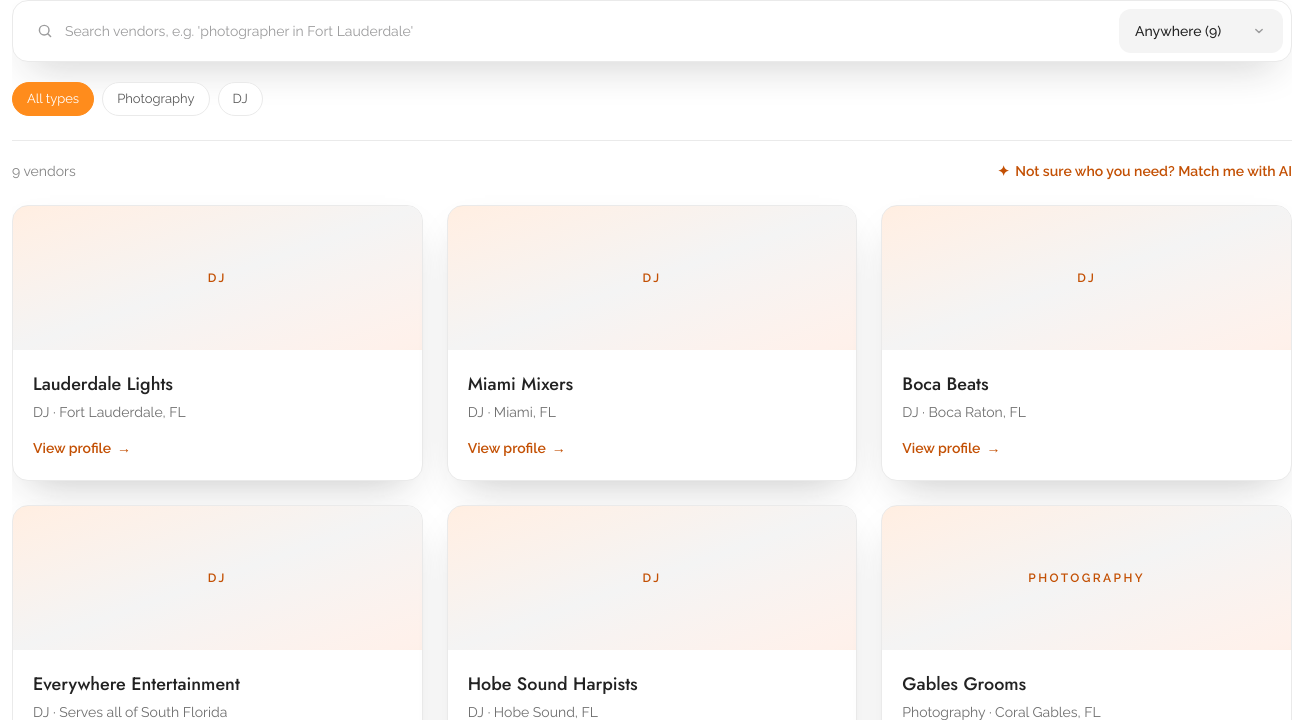
Test case: metro dropdown › clears back to the full list via Anywhere
Select "Orlando (3)" in the dropdown named "Metro" at [1201, 31], box [1119,9,1283,53]
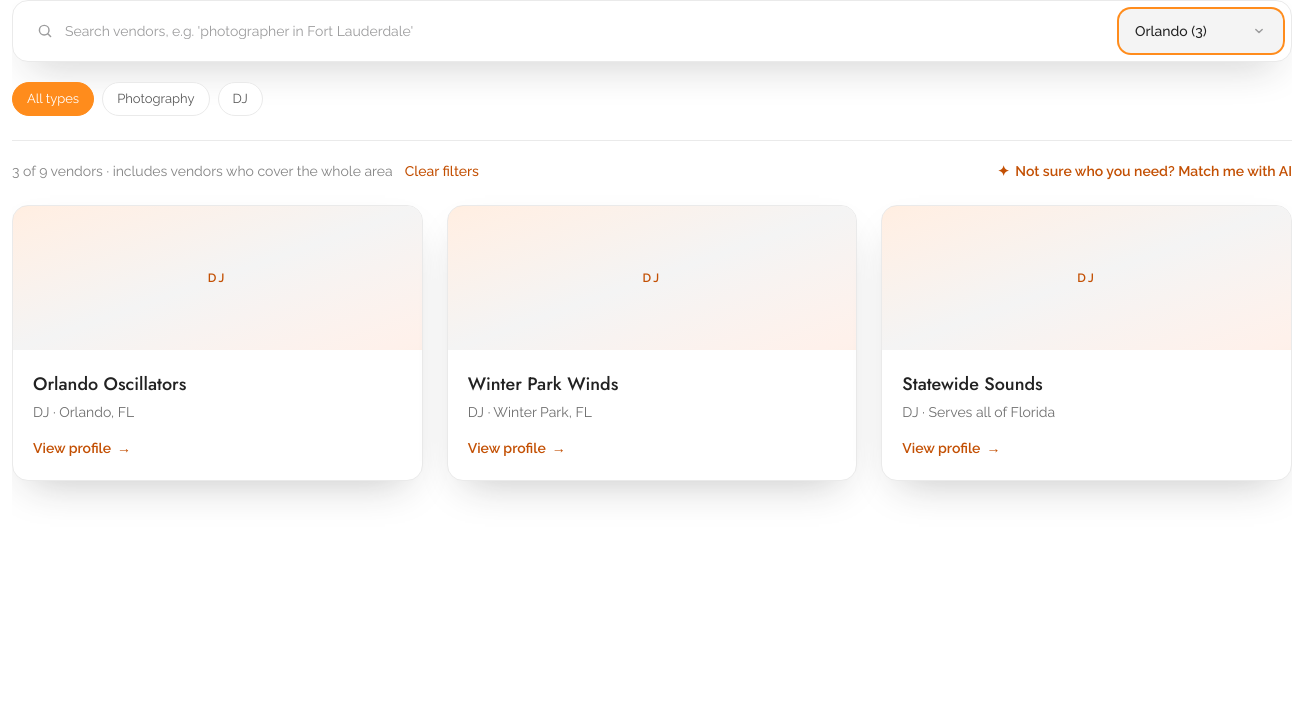
Now the number of headings is 3, box [33,370,186,396]; [468,370,618,396]; [902,370,1043,396]
Select "Anywhere (9)" in the dropdown named "Metro" at [1201, 31], box [1119,9,1283,53]
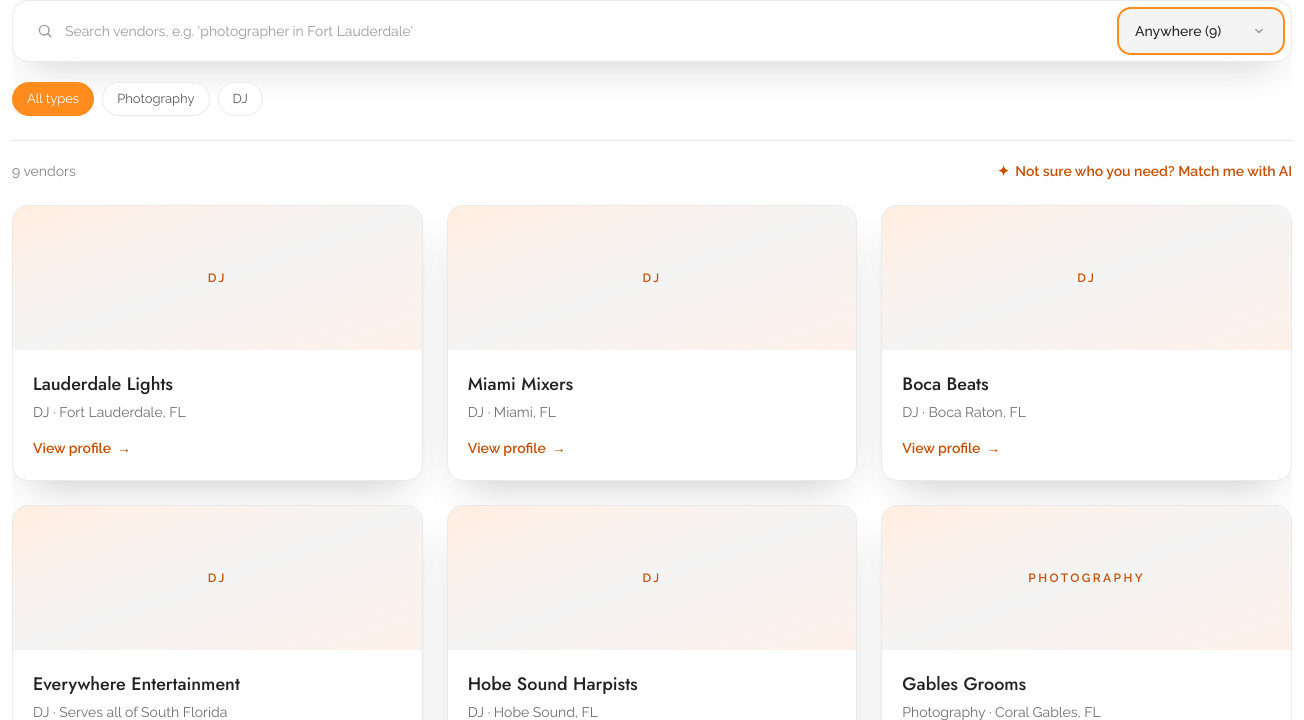
Now the number of headings is 9
